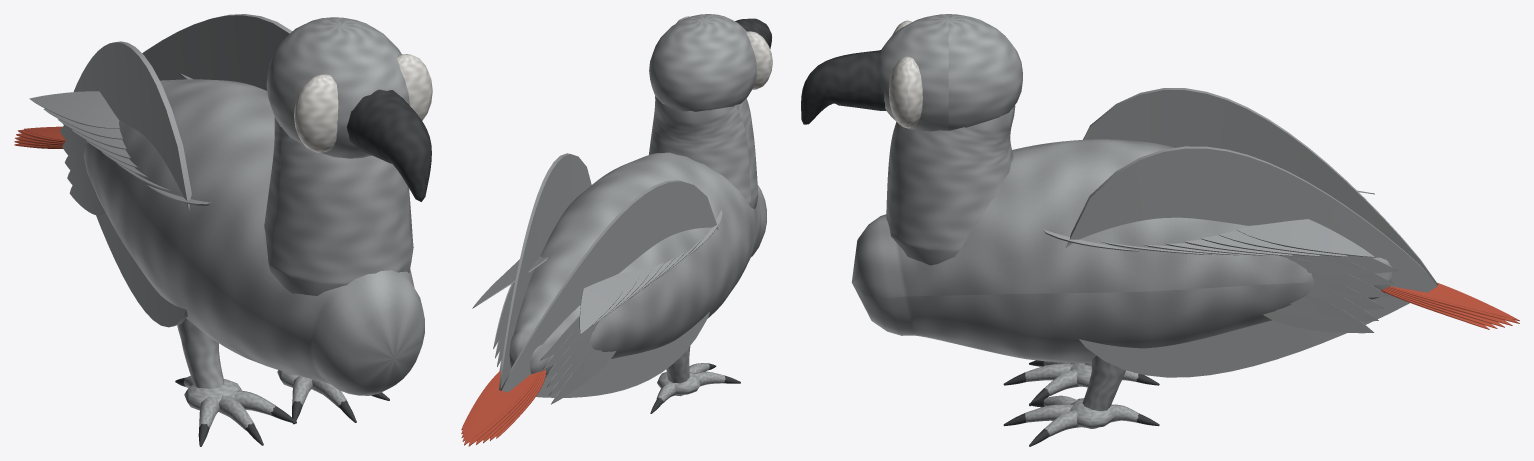
The model's file is birds-and-reptiles-hd-african-grey-parrot-af8c2ce7__28088.glb.
3 views of the same model, side by side, from view 1: azimuth 30°, elevation 25°; view 2: azimuth 150°, elevation 25°; view 3: azimuth 270°, elevation 25° (orthographic). The views are drawn at different scales.
Parts seen in each view (by area): view 1: african-grey-parrot; view 2: african-grey-parrot; view 3: african-grey-parrot.
Boxes of the visible parts, x1,y1,x2,y2 form: african-grey-parrot: (14,14,432,446); african-grey-parrot: (461,14,772,446); african-grey-parrot: (801,14,1519,446).
Bounding box in the file's own units: 0.1321 × 0.287 × 0.4834.
6 materials, 4 textured.
